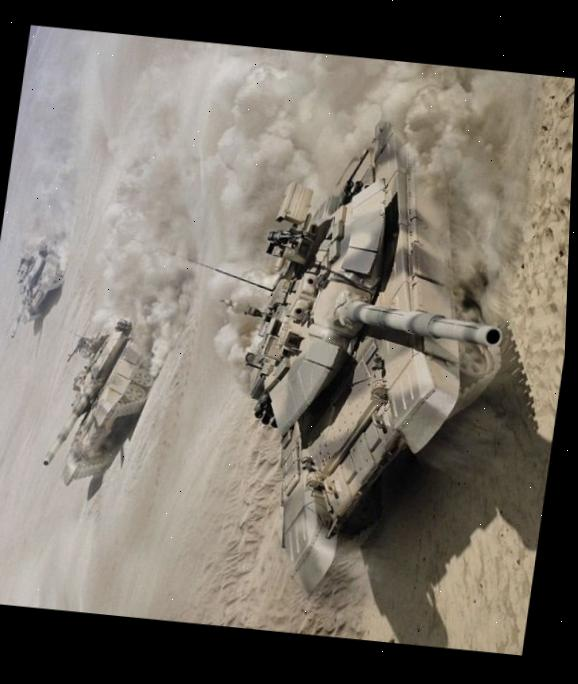tank: (202, 104, 539, 583), (38, 311, 161, 493), (7, 238, 77, 345)
